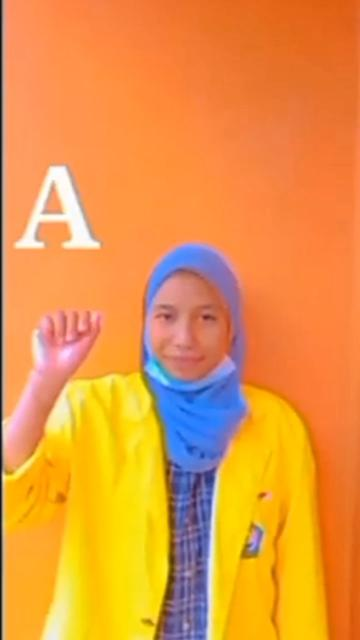A: (23, 306, 106, 386)
